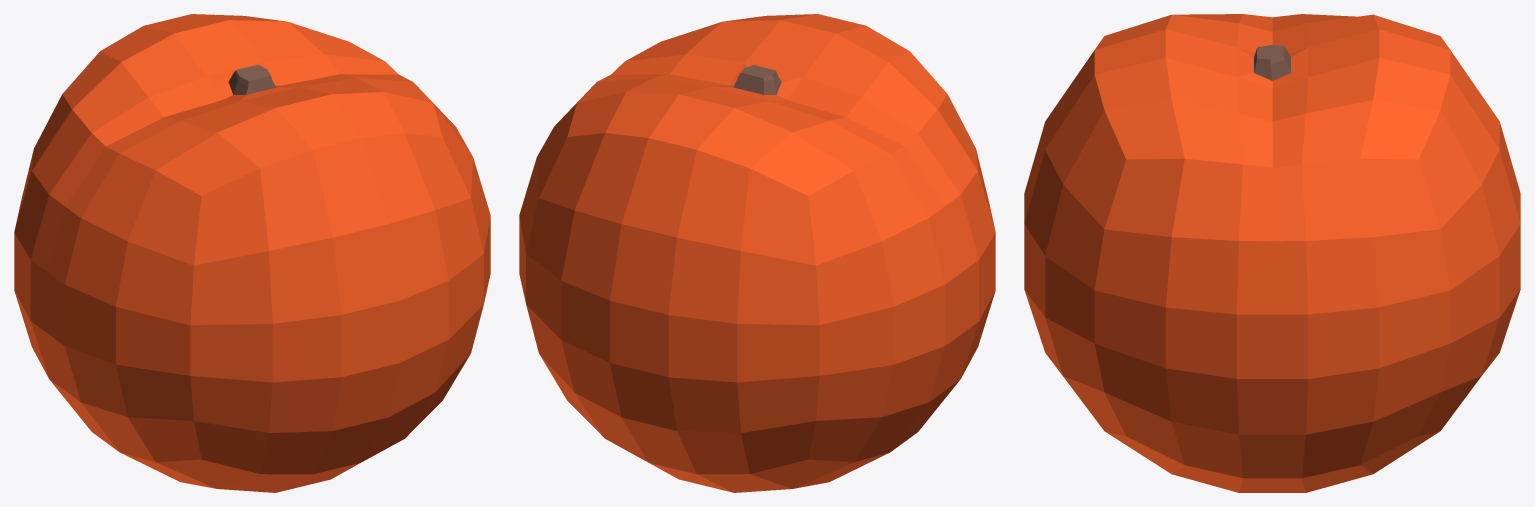
The model's file is Peach.gltf.
3 renders of one model, left to right at view 1: azimuth 30°, elevation 25°; view 2: azimuth 150°, elevation 25°; view 3: azimuth 270°, elevation 25°, orthographic. The views are drawn at different scales.
Visible parts, largest first — view 1: node-0; view 2: node-0; view 3: node-0.
Part boxes in pixels (left/top/right/bottom): node-0: left=14, top=14, right=490, bottom=492; node-0: left=519, top=14, right=995, bottom=492; node-0: left=1024, top=14, right=1520, bottom=492.
Bounding box in the file's own units: 9.8 × 9.22 × 9.8.
